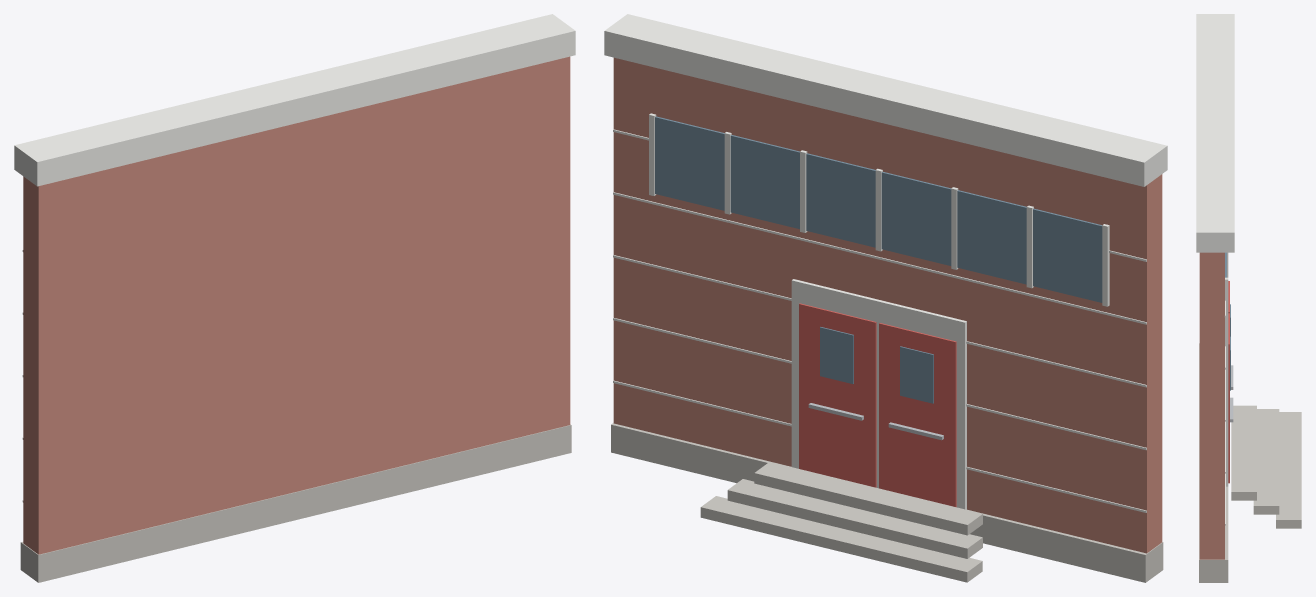
Rendered from gym_facade_door.glb.
3 views of the same model, side by side, from view 1: azimuth 30°, elevation 25°; view 2: azimuth 150°, elevation 25°; view 3: azimuth 270°, elevation 25° (orthographic). The views are drawn at different scales.
Parts seen in each view (by area): view 1: body; view 2: body; view 3: body.
Boxes of the visible parts, box(x1,y1,x2,y2) form: body: box(14, 14, 575, 582); body: box(604, 14, 1167, 582); body: box(1196, 14, 1301, 582).
Bounding box in the file's own units: 8.1 × 6.07 × 1.65.
